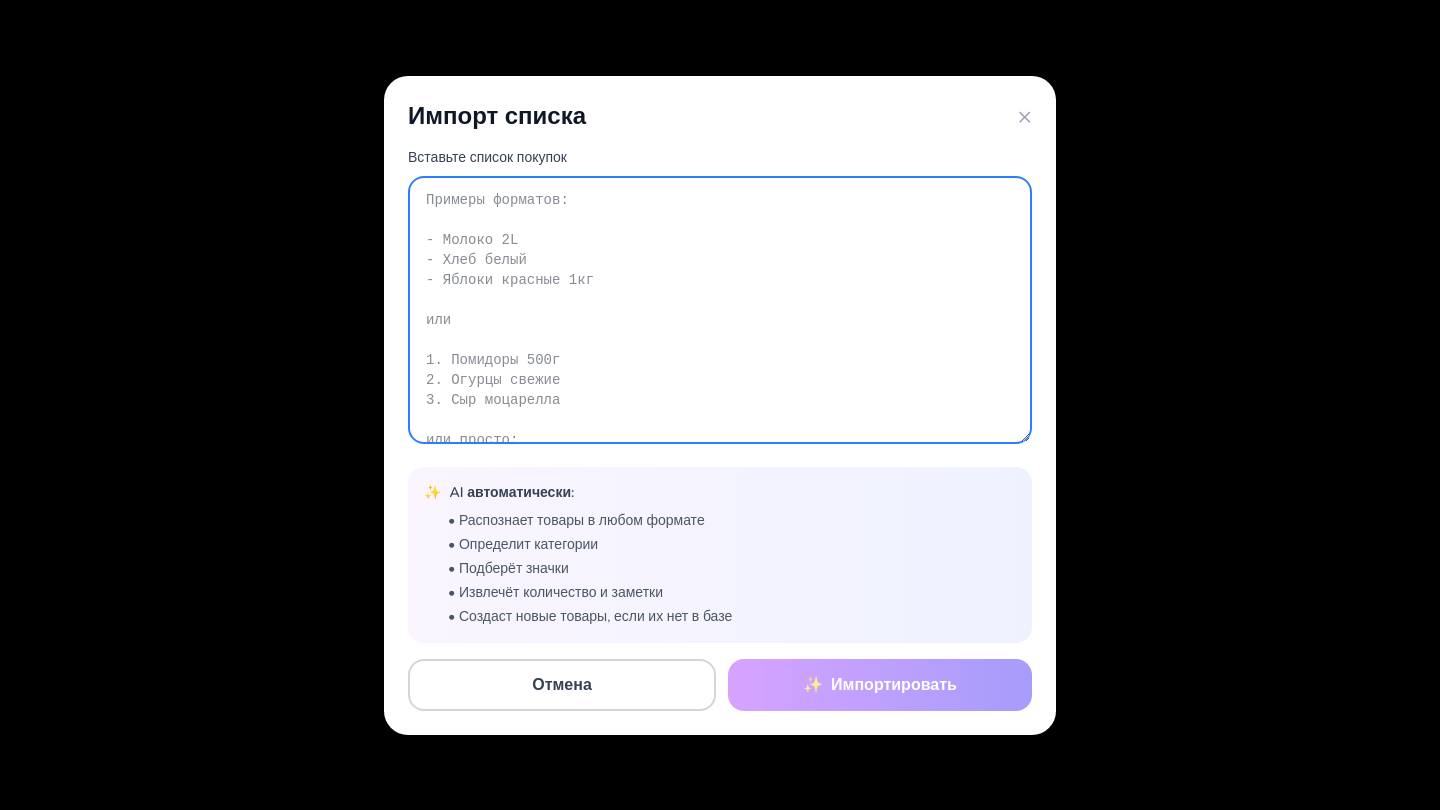
Scenario: import result report › still renders when a failed entry carries a non-string product name
Replace the text in the text box labelled "Вставьте список покупок" with "Молоко, сыр" at (720, 310), box [408,176,1032,444]
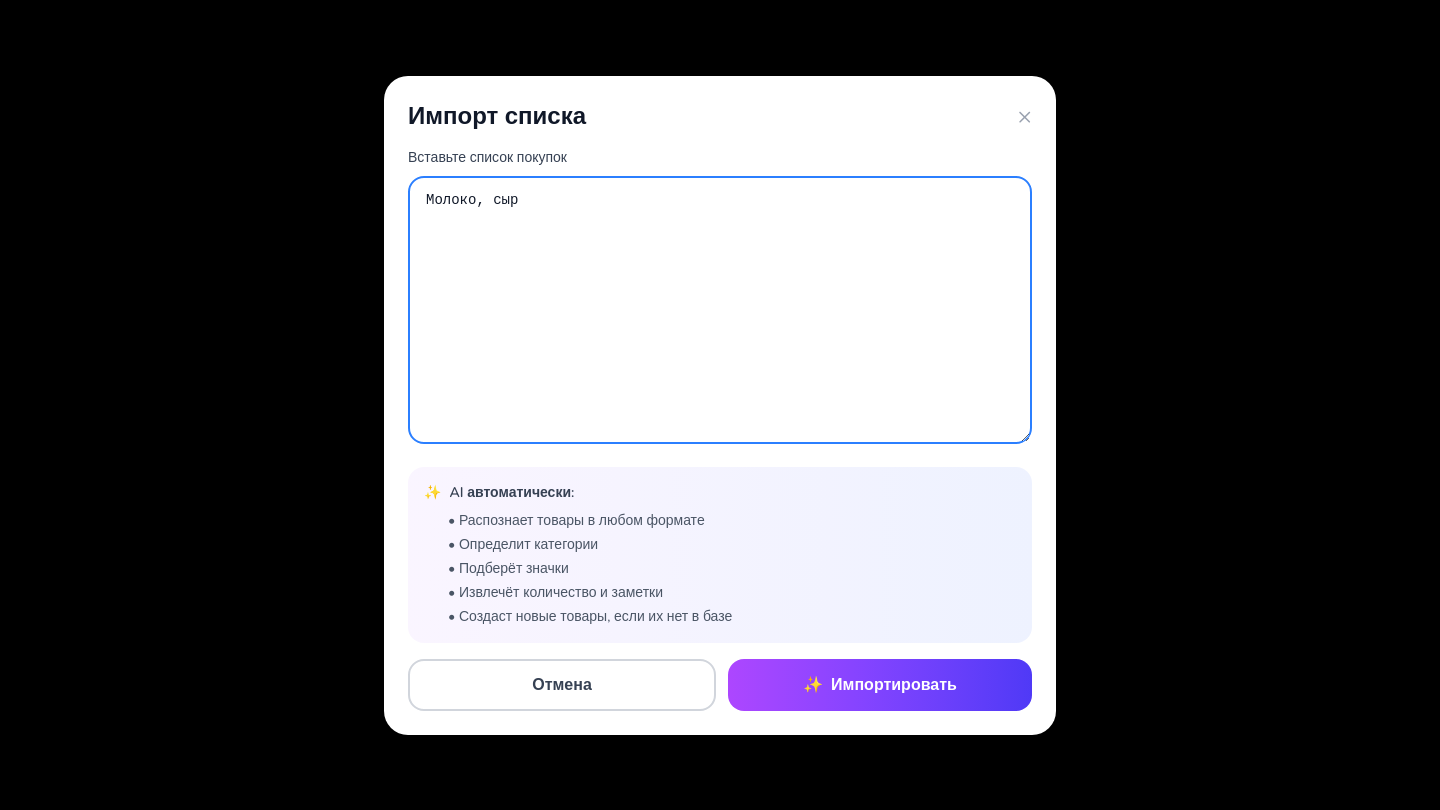
Click the button "✨ Импортировать" at (880, 684), box [728,658,1032,710]
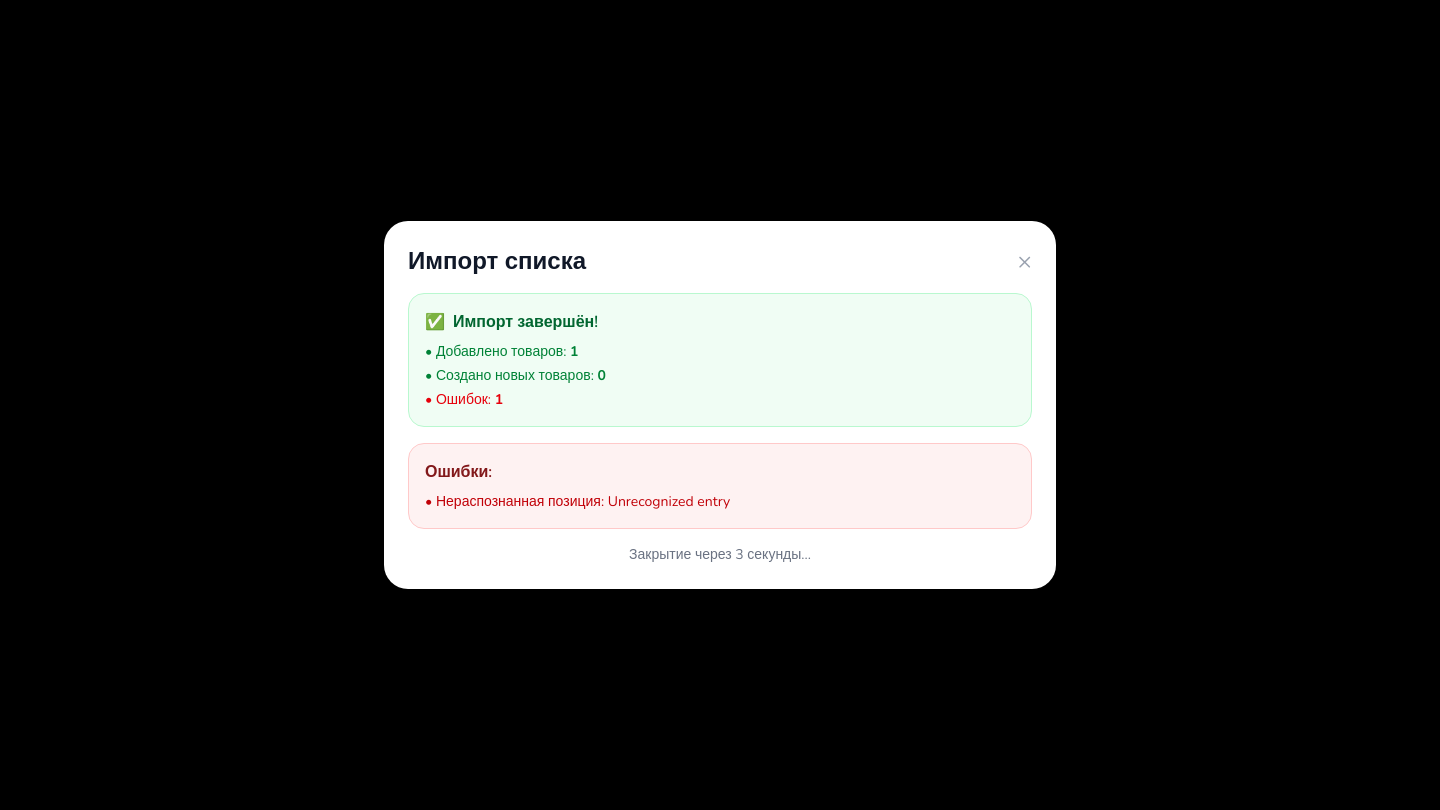
Check: the text "Импорт завершён!" is shown, box [453,310,598,334]
Check: the text "• Нераспознанная позиция: Unrecognized entry" is shown, box [425,492,730,511]
